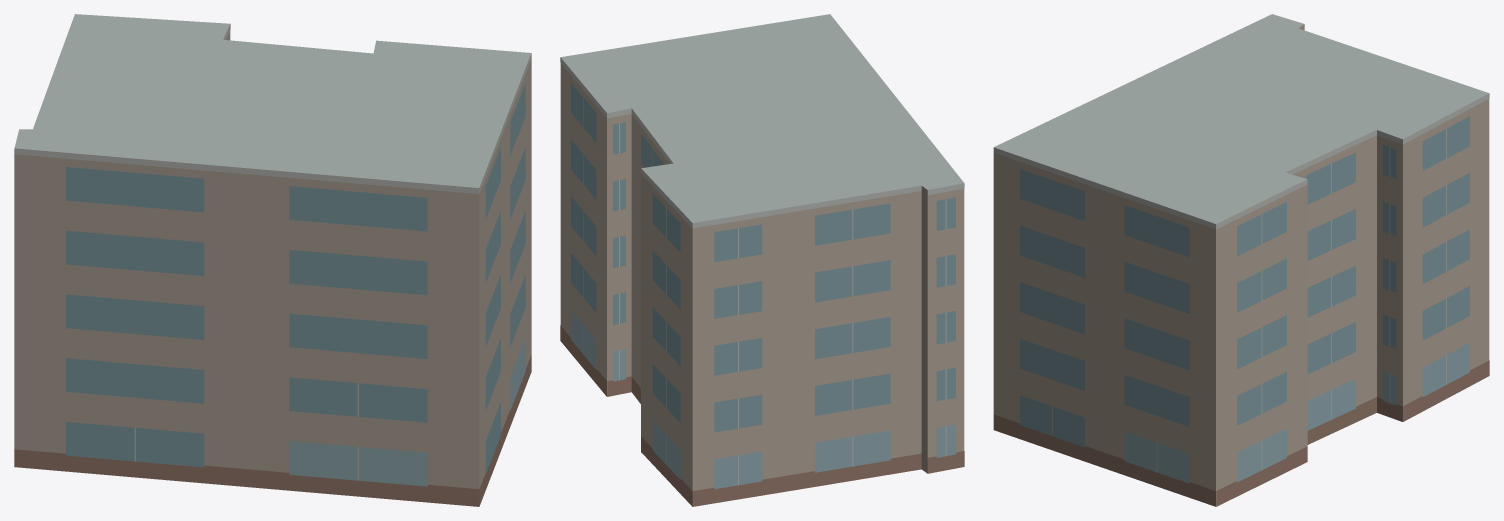
Rendered from survey-upis-32601509.glb.
The picture shows the model from 3 angles, left to right: view 1: azimuth 30°, elevation 25°; view 2: azimuth 150°, elevation 25°; view 3: azimuth 270°, elevation 25°; orthographic projection. The views are drawn at different scales.
Visible parts, largest first — view 1: survey-upis-32601509.tmp; view 2: survey-upis-32601509.tmp; view 3: survey-upis-32601509.tmp.
Boxes of the visible parts, bbox=[...] form: survey-upis-32601509.tmp: bbox=[14, 14, 531, 506]; survey-upis-32601509.tmp: bbox=[560, 14, 964, 506]; survey-upis-32601509.tmp: bbox=[993, 14, 1489, 506].
Size of the model in its own units: 20.73 by 13 by 20.67.
